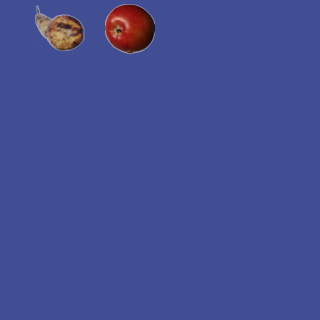Apple Braeburn: (104, 3, 154, 53)
Pear Abate: (34, 3, 84, 53)
